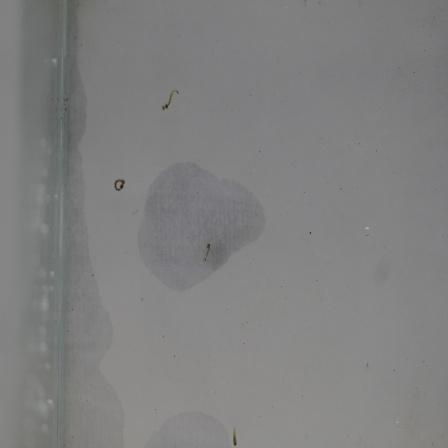Jentik-Nyamuk: (159, 86, 183, 115), (199, 237, 217, 270), (108, 175, 129, 195)
